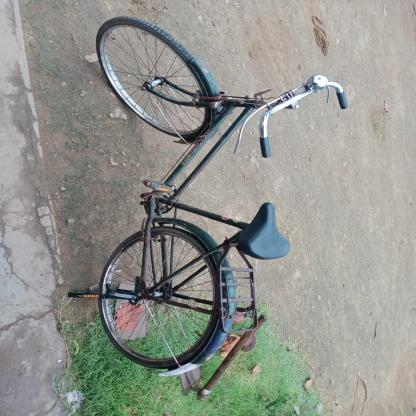bike: (53, 6, 364, 393)
